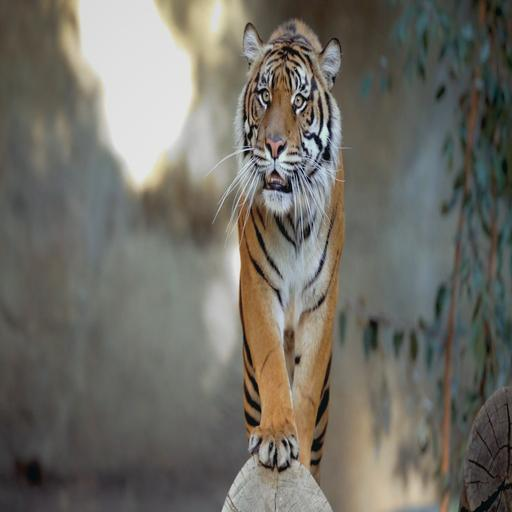Tiger: (229, 12, 361, 485)
